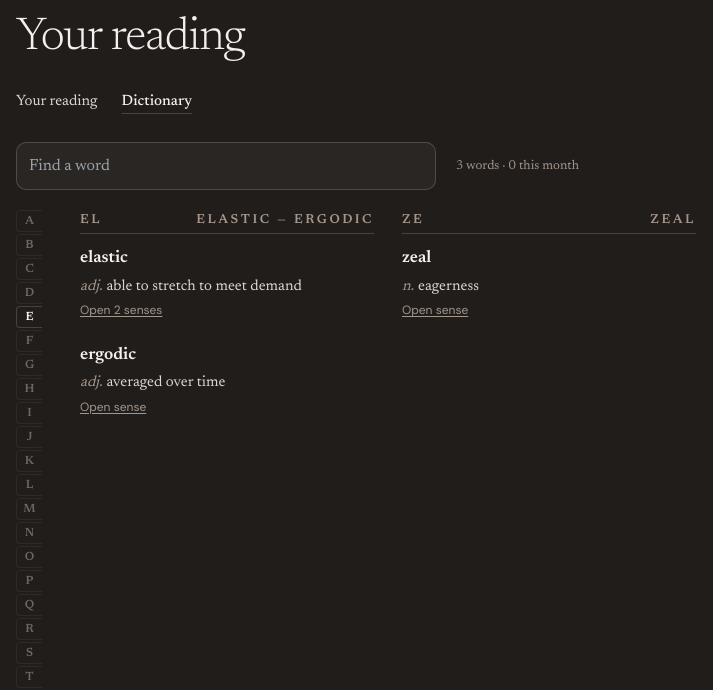
Scenario: Dictionary › lays words out alphabetically with senses, links, a deleted article and a dimmed thumb index
Click the button "Open 2 senses" at [121, 310], box [80,302,162,318]
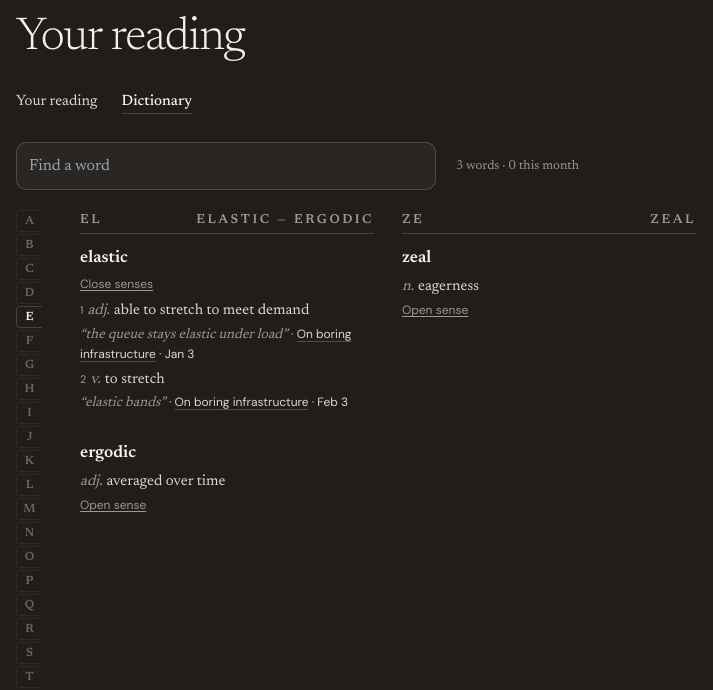
Click the button "Open sense" below "averaged over time" at [113, 505], box [80,497,146,513]
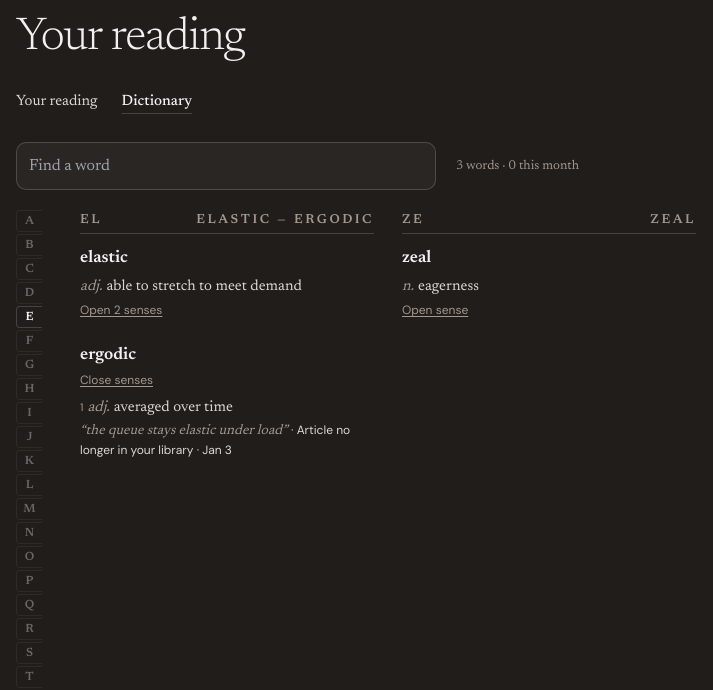
Expected: the heading "el elastic — ergodic" is shown, [80,210,374,234]
Expected: the text "Article no longer in your library" is shown, [80,422,350,458]
